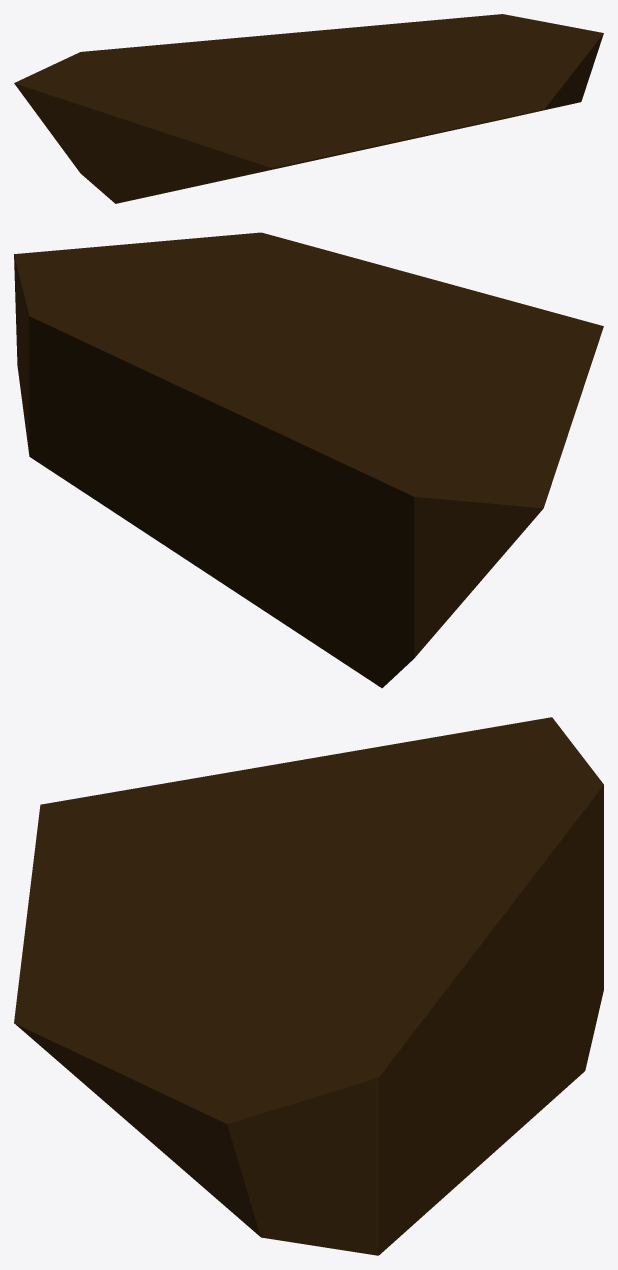
File: Debris15.glb
3 views of the same model, one above another, from view 1: azimuth 30°, elevation 25°; view 2: azimuth 150°, elevation 25°; view 3: azimuth 270°, elevation 25° (orthographic). The views are drawn at different scales.
Parts seen in each view (by area): view 1: Cylinder_cell.002; view 2: Cylinder_cell.002; view 3: Cylinder_cell.002.
Part boxes in pixels (x1,y1,x2,y2): Cylinder_cell.002: [14, 14, 603, 203]; Cylinder_cell.002: [14, 232, 603, 688]; Cylinder_cell.002: [14, 717, 603, 1255].
Size of the model in its own units: 0.9203 by 0.2763 by 0.5637.
